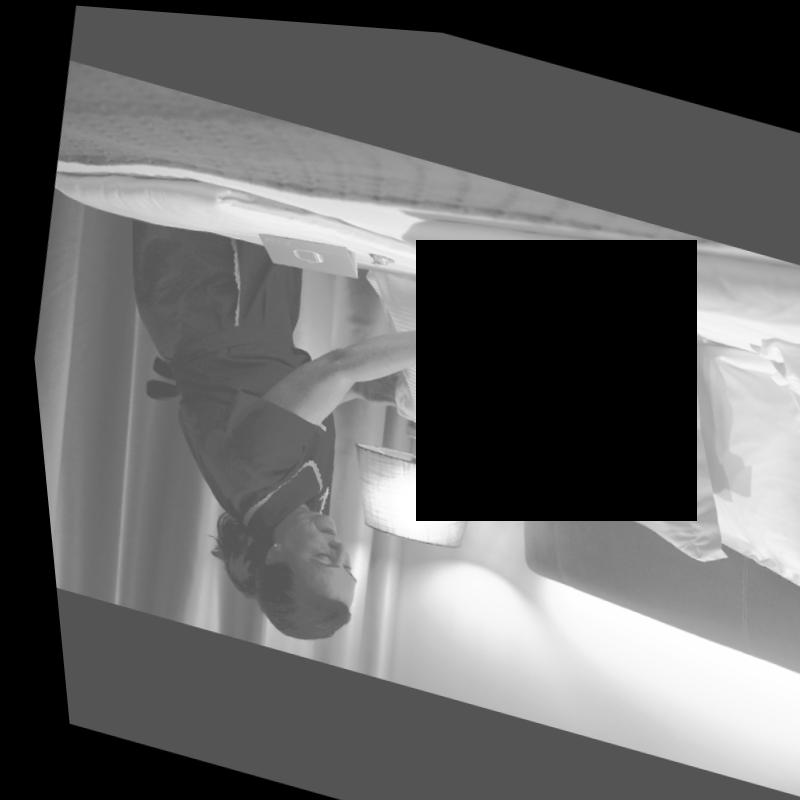pillow: (429, 261, 757, 557), (328, 244, 651, 486), (627, 316, 800, 593), (703, 313, 800, 584)
